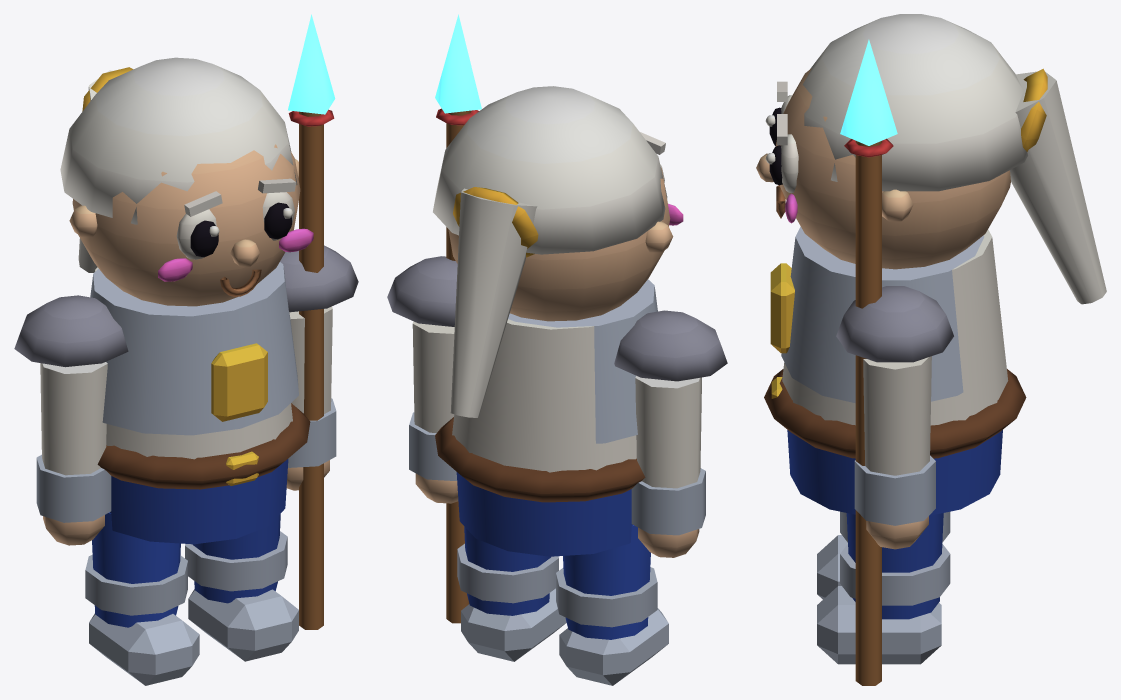
Rendered from hero_valka.glb.
3 views of the same model, side by side, from view 1: azimuth 30°, elevation 25°; view 2: azimuth 150°, elevation 25°; view 3: azimuth 270°, elevation 25° (orthographic). The views are drawn at different scales.
Visible parts, largest first — view 1: body_t0_palette, arml_t0_palette, armr_t0_palette, legl_t0_palette, legr_t0_palette, armr_t0_crystal; view 2: body_t0_palette, arml_t0_palette, armr_t0_palette, legl_t0_palette, legr_t0_palette, armr_t0_crystal; view 3: body_t0_palette, armr_t0_palette, legr_t0_palette, armr_t0_crystal, legl_t0_palette.
Part boxes in pixels (bbox=[...]): body_t0_palette: bbox=[60, 57, 313, 544]; arml_t0_palette: bbox=[14, 295, 128, 545]; armr_t0_palette: bbox=[280, 109, 358, 629]; legl_t0_palette: bbox=[85, 512, 199, 685]; legr_t0_palette: bbox=[185, 514, 298, 661]; armr_t0_crystal: bbox=[288, 14, 335, 114]; body_t0_palette: bbox=[433, 86, 683, 556]; arml_t0_palette: bbox=[614, 310, 727, 557]; armr_t0_palette: bbox=[387, 108, 478, 623]; legl_t0_palette: bbox=[556, 525, 668, 685]; legr_t0_palette: bbox=[457, 526, 566, 661]; armr_t0_crystal: bbox=[435, 14, 481, 113]; body_t0_palette: bbox=[756, 14, 1106, 515]; armr_t0_palette: bbox=[836, 138, 953, 685]; legr_t0_palette: bbox=[817, 513, 950, 664]; armr_t0_crystal: bbox=[840, 39, 897, 145]; legl_t0_palette: bbox=[817, 511, 950, 599].
Bounding box in the file's own units: 0.3022 × 0.545 × 0.2673.
